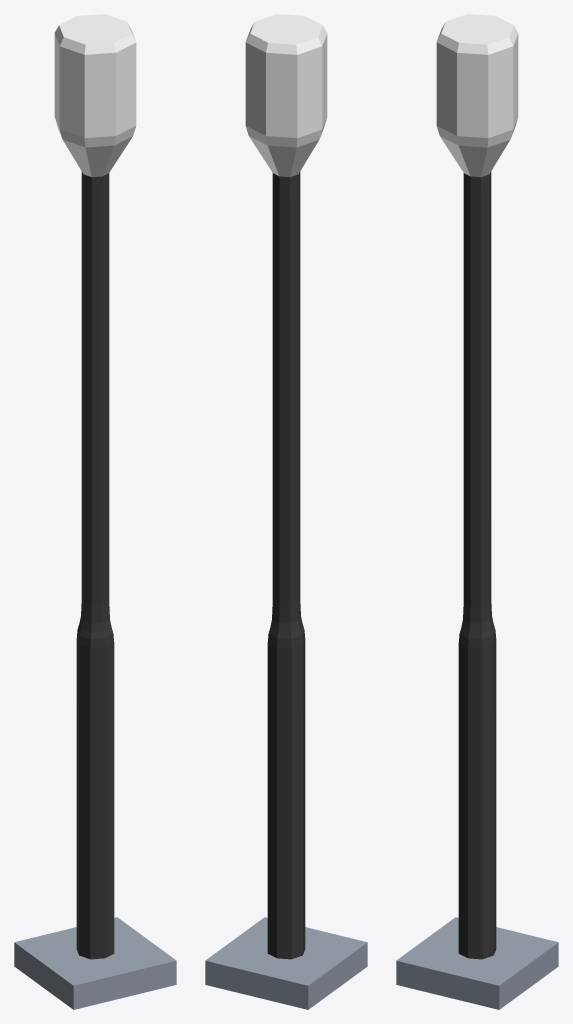
File: StreetLight_A.fbx
3 views of the same model, side by side, from view 1: azimuth 30°, elevation 25°; view 2: azimuth 150°, elevation 25°; view 3: azimuth 330°, elevation 25° (orthographic).
Visible parts, largest first — view 1: StreetLight_A; view 2: StreetLight_A; view 3: StreetLight_A.
Boxes of the visible parts, bbox=[...] form: StreetLight_A: bbox=[14, 14, 176, 1009]; StreetLight_A: bbox=[205, 14, 367, 1009]; StreetLight_A: bbox=[396, 14, 558, 1009].
Bounding box in the file's own units: 0.9211 × 8.08 × 0.9211.
